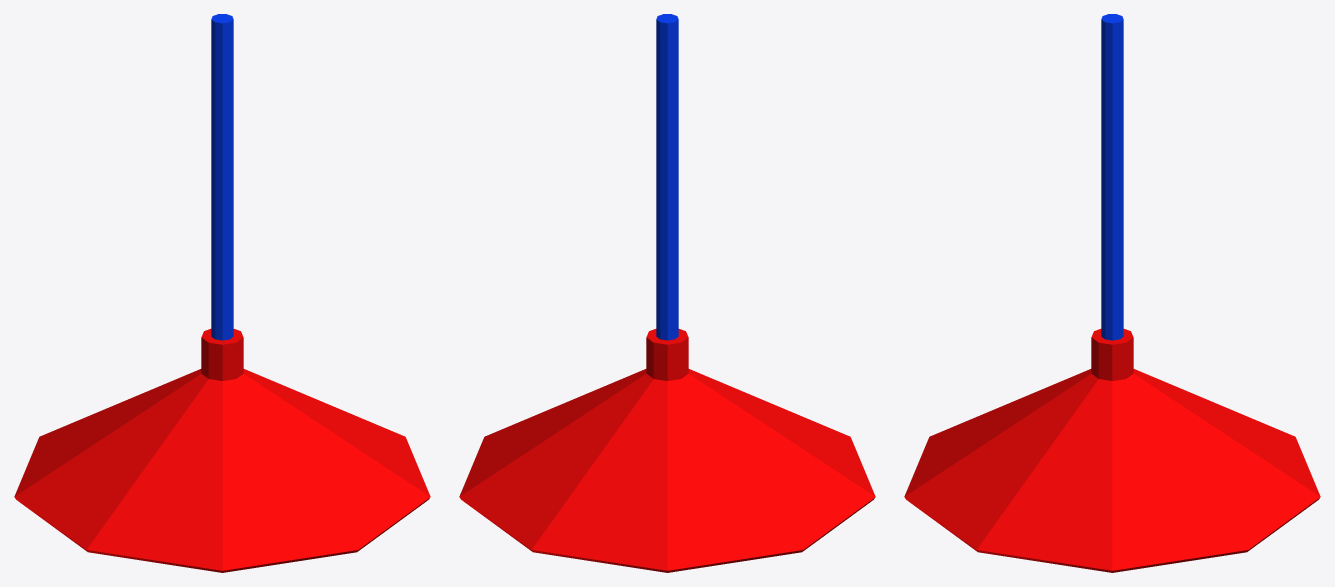
The model's file is lampara.FBX.
3 renders of one model, left to right at view 1: azimuth 30°, elevation 25°; view 2: azimuth 150°, elevation 25°; view 3: azimuth 270°, elevation 25°, orthographic.
Parts seen in each view (by area): view 1: Cone001; view 2: Cone001; view 3: Cone001.
Part boxes in pixels (left/top/right/bottom): Cone001: left=14, top=14, right=430, bottom=572; Cone001: left=459, top=14, right=875, bottom=572; Cone001: left=904, top=14, right=1320, bottom=572.
Bounding box in the file's own units: 102 × 128 × 104.
